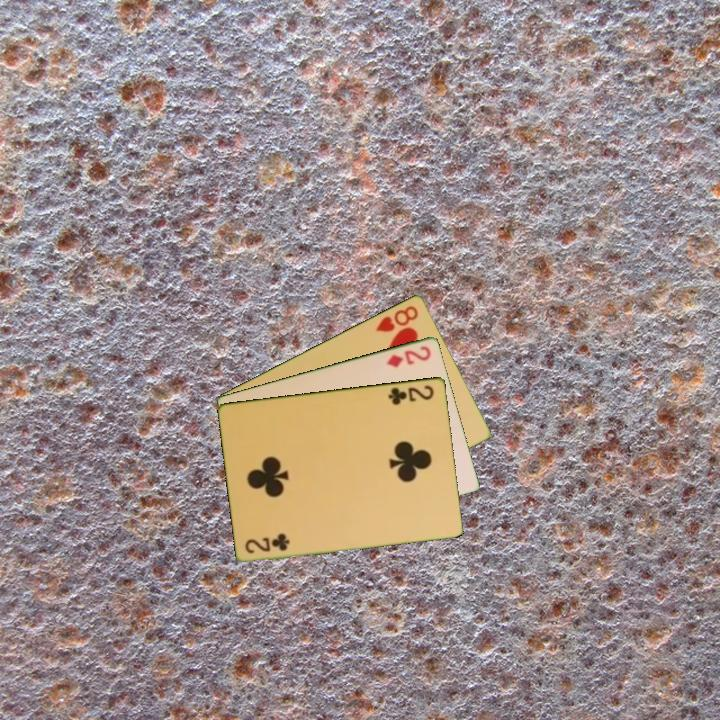2c: (385, 381, 437, 408), (241, 531, 293, 556)
2d: (383, 342, 434, 370)
8h: (372, 302, 421, 335)
